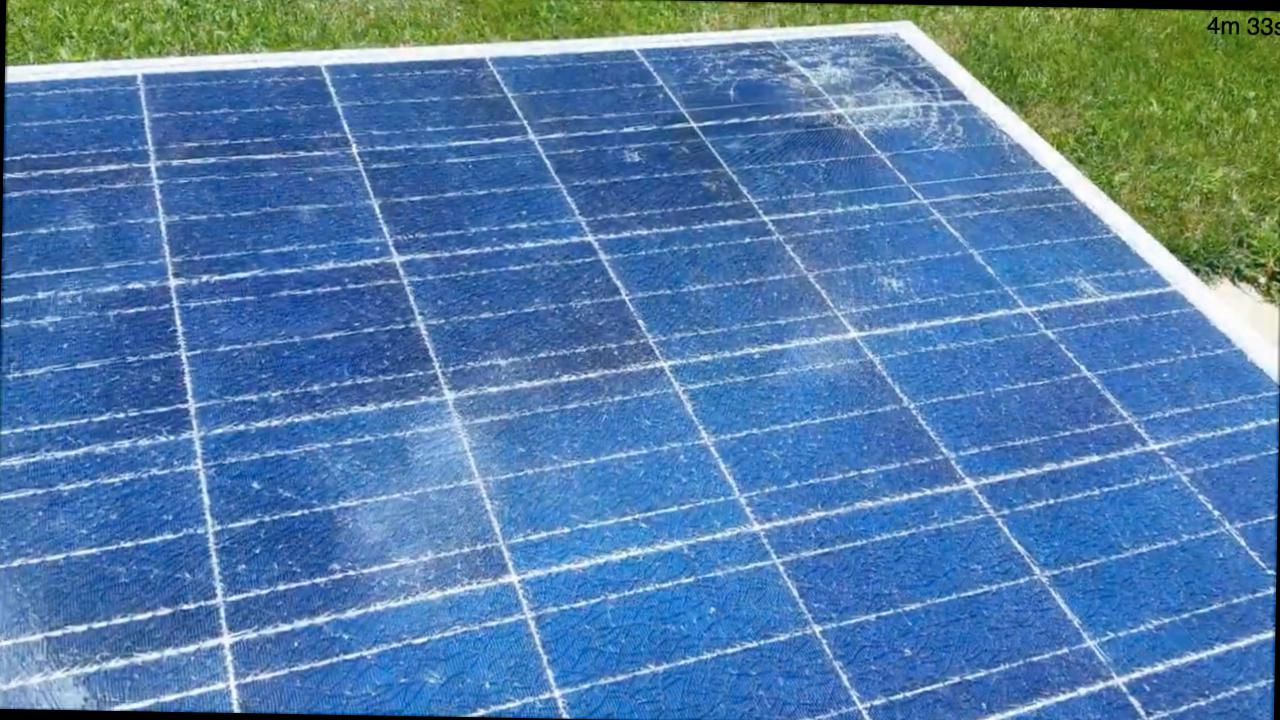Crack: (738, 38, 951, 154), (1048, 262, 1138, 325), (854, 256, 941, 308)
